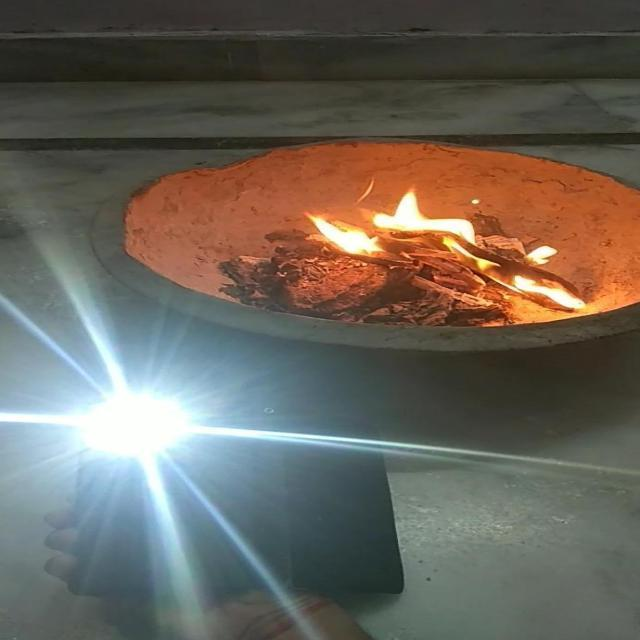smoke: (294, 185, 482, 255), (508, 244, 594, 310)
